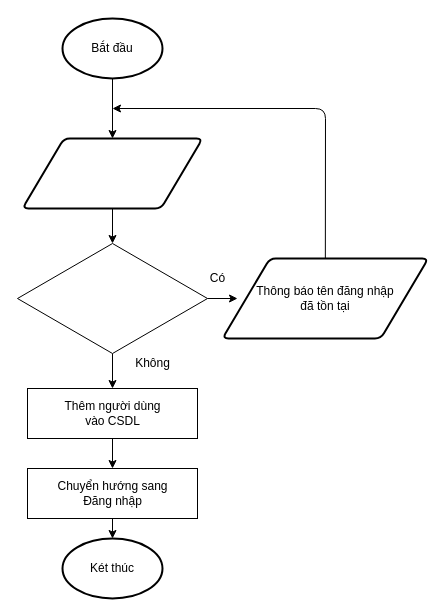
Some shapes in this 447 by 616 pixel diagram are drawn without their labels. The shapes that lost their labels are listed below. From the top down, each one's centre as x and y in pixels, then its label:
point (112, 173): Nhập thông tin đăng ký
point (112, 298): Kiểm tra tên đăng nhập đã tồn tại ?
